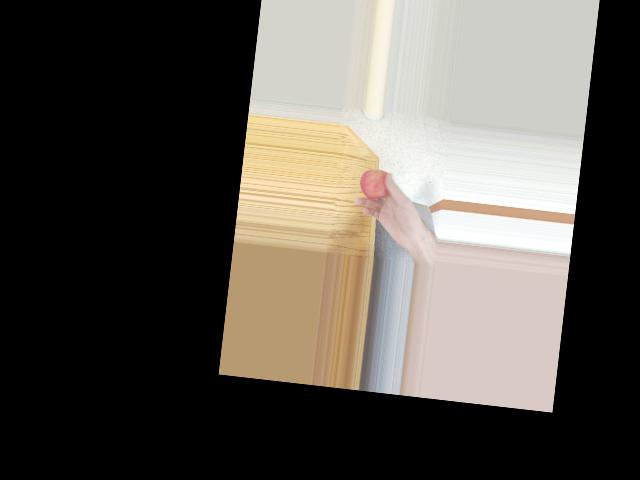apple: (357, 164, 392, 202)
